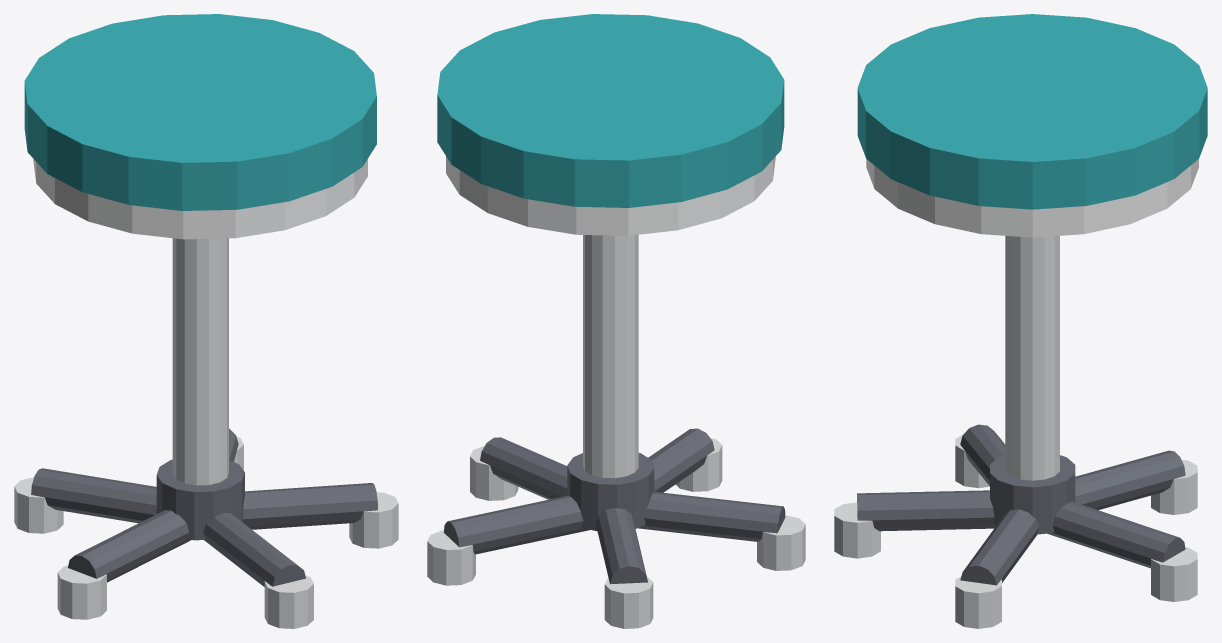
The picture shows the model from 3 angles, left to right: view 1: azimuth 30°, elevation 25°; view 2: azimuth 150°, elevation 25°; view 3: azimuth 270°, elevation 25°; orthographic projection.
Parts seen in each view (by area): view 1: seat/teal, optometrist-stool, seat/white; view 2: seat/teal, optometrist-stool, seat/white; view 3: seat/teal, optometrist-stool, seat/white.
Boxes of the visible parts, x1,y1,x2,y2 form: seat/teal: (24, 14, 376, 210); optometrist-stool: (14, 238, 398, 628); seat/white: (33, 159, 367, 239); seat/teal: (437, 14, 784, 207); optometrist-stool: (427, 234, 805, 628); seat/white: (446, 156, 775, 235); seat/teal: (857, 14, 1207, 209); optometrist-stool: (834, 236, 1197, 628); seat/white: (866, 159, 1198, 237).
Bounding box in the file's own units: 0.4364 × 0.58 × 0.4266.
